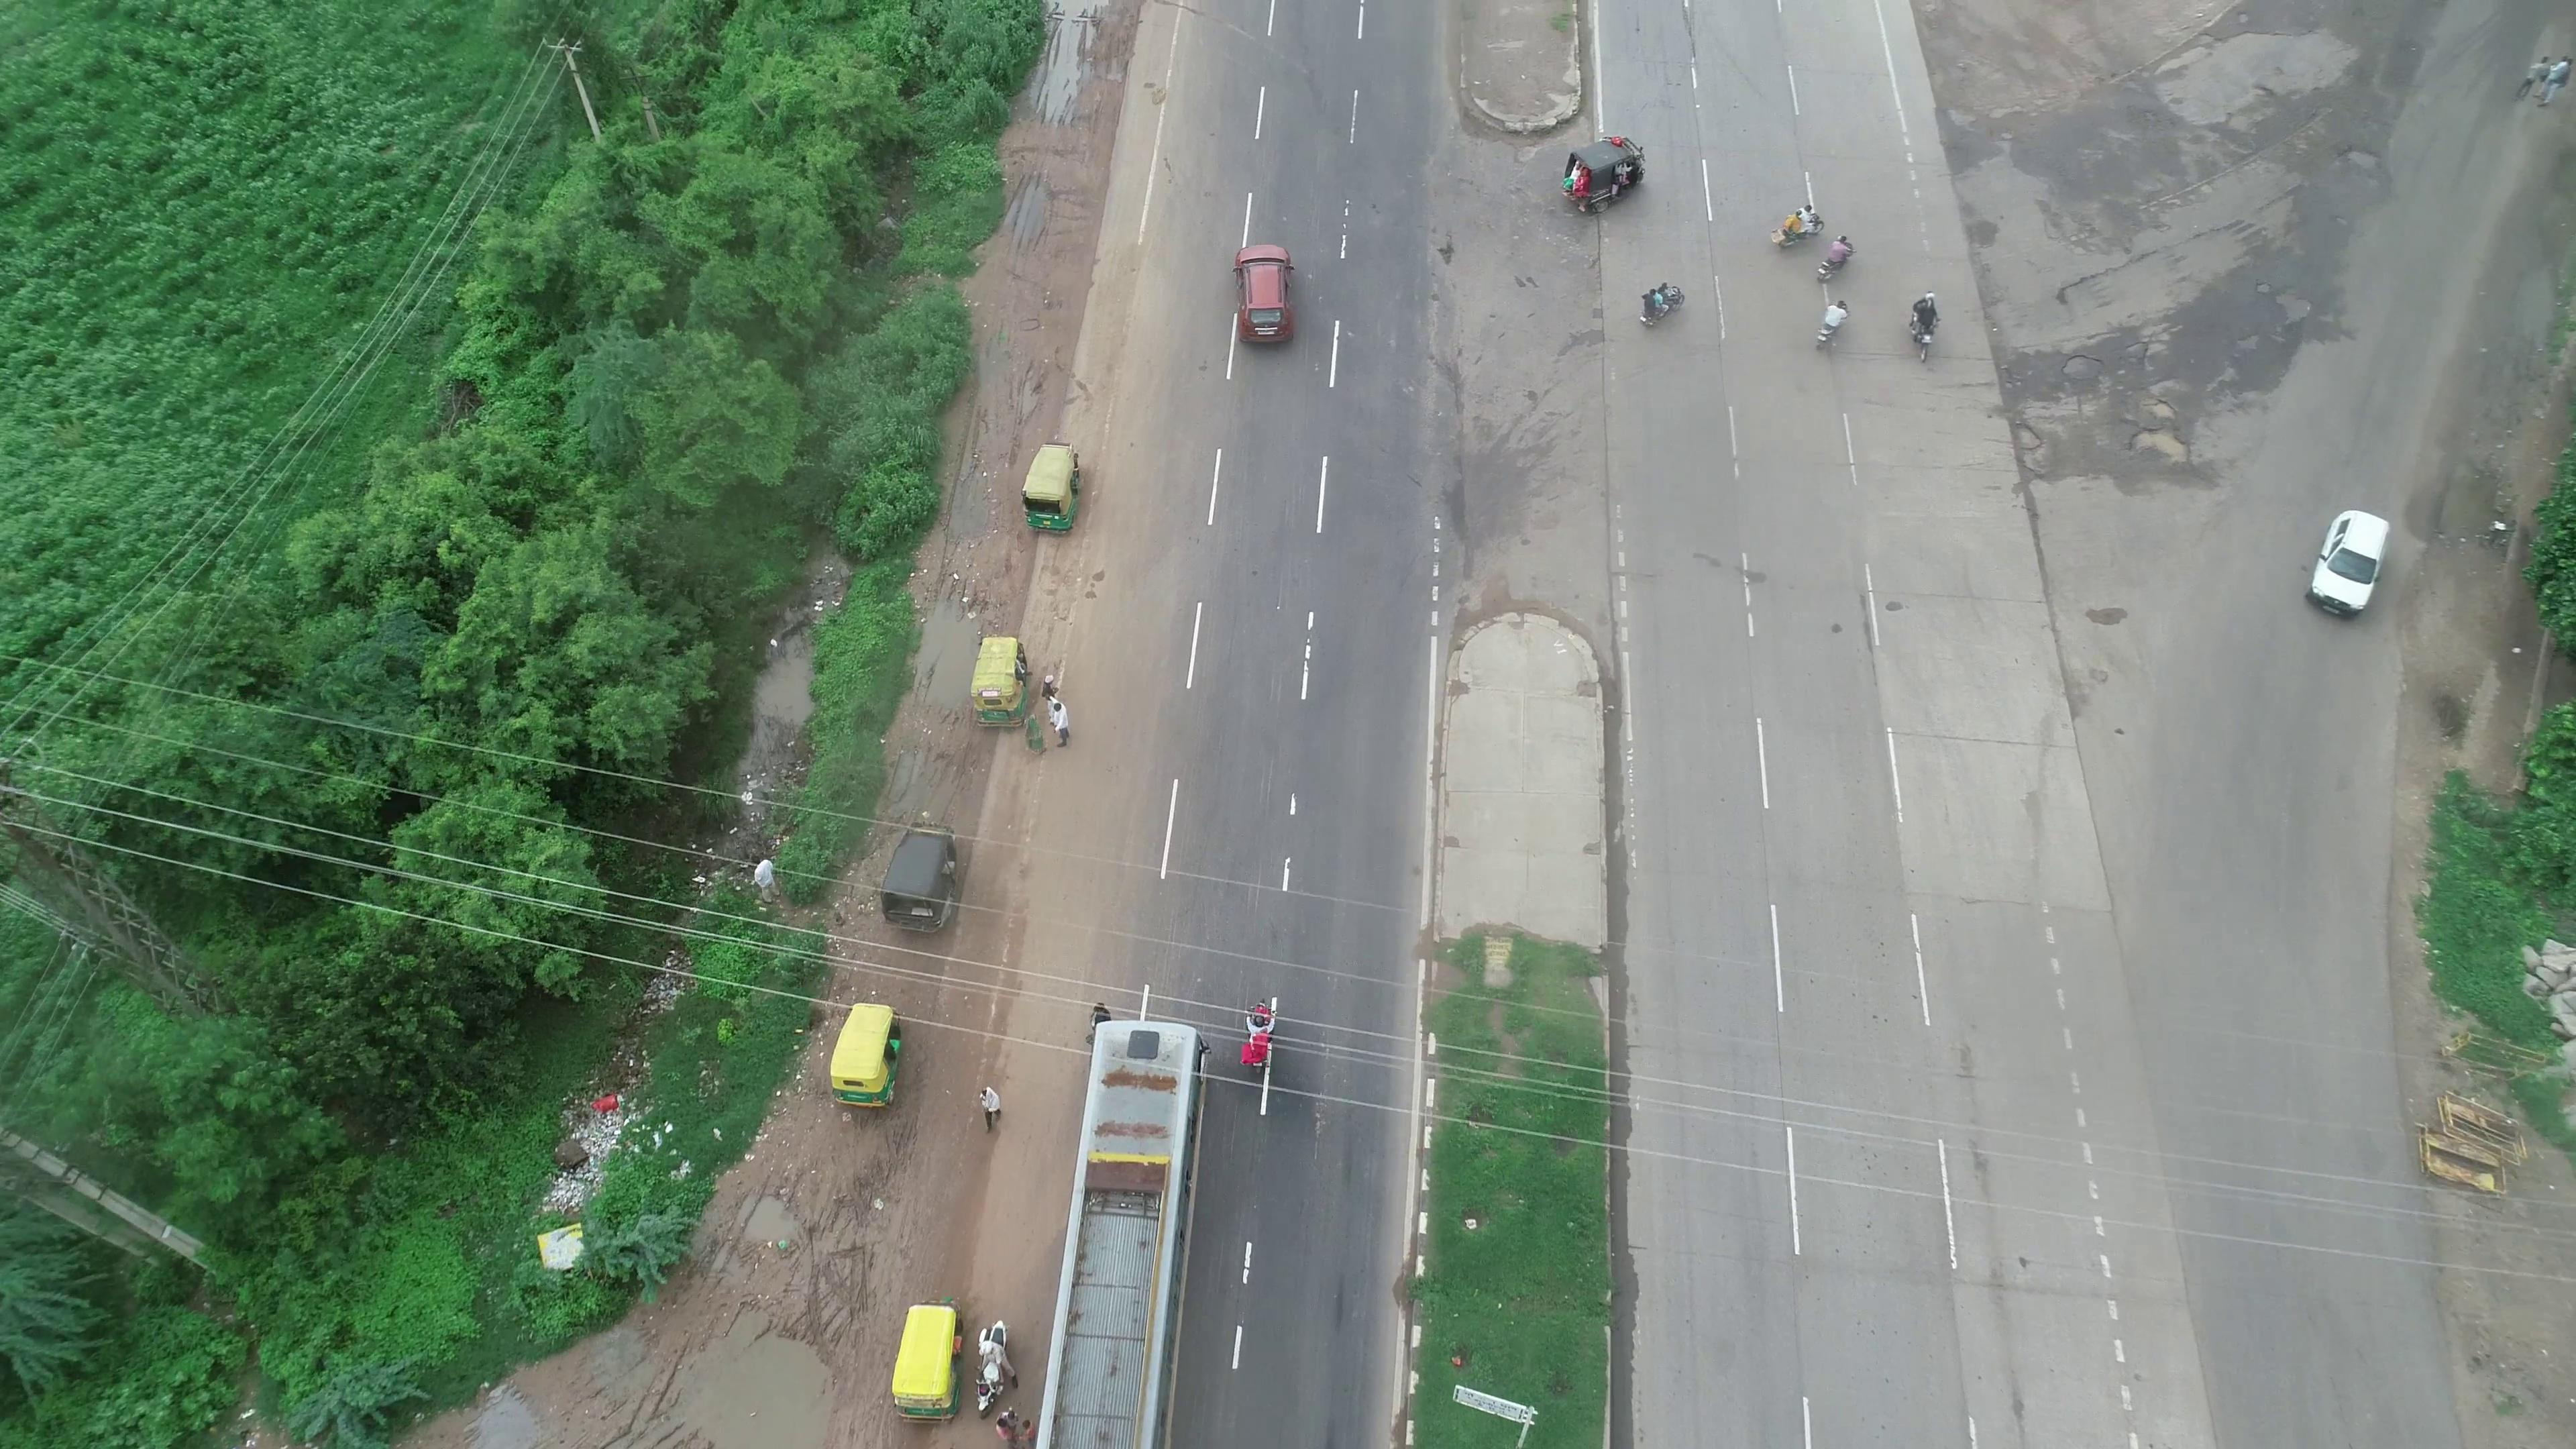Potholes: (2022, 331, 2212, 506), (2226, 265, 2332, 372), (2309, 120, 2433, 211)
